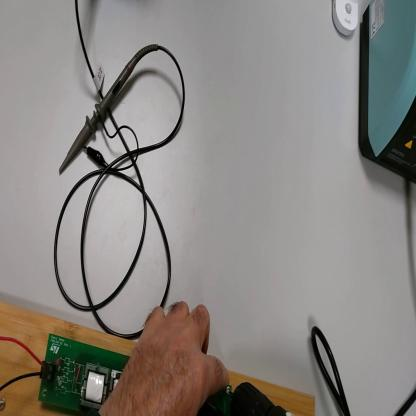electric screwdriver: (228, 383, 292, 415)
hand: (110, 303, 234, 413)
high voltage board: (2, 334, 233, 416)
oscilloscope probe tip: (59, 55, 142, 176)
welder station: (358, 3, 416, 184)
working area: (2, 304, 315, 416)
